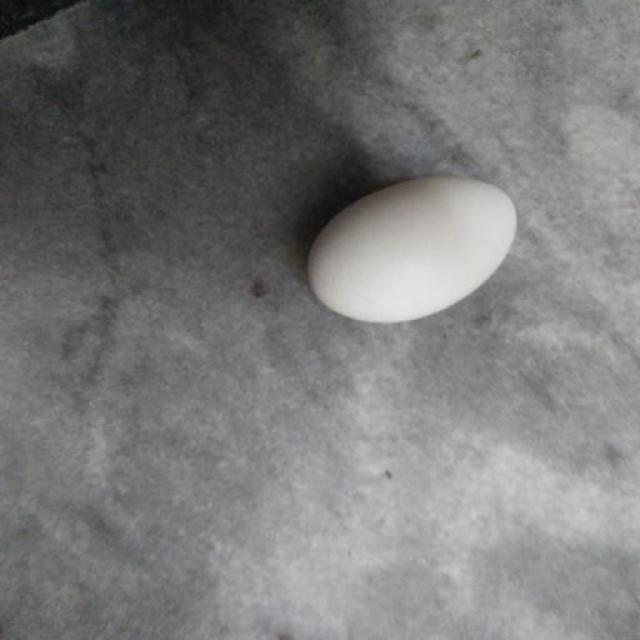telur: (308, 176, 512, 321)
